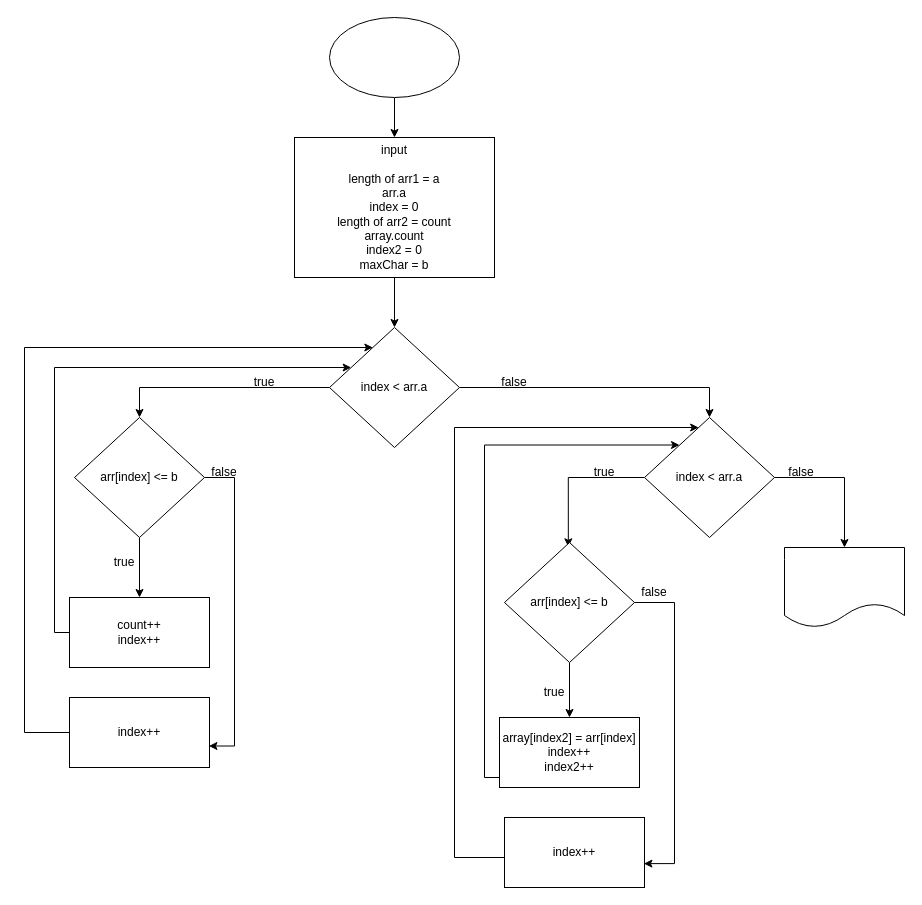
The diagram is 922 pixels wide and 905 high, and some of its shapes have lost their labels. The centre of each missing label's shape, as x and y in pixels:
Print arr.count: the point at 844,587
Start: the point at 394,57
